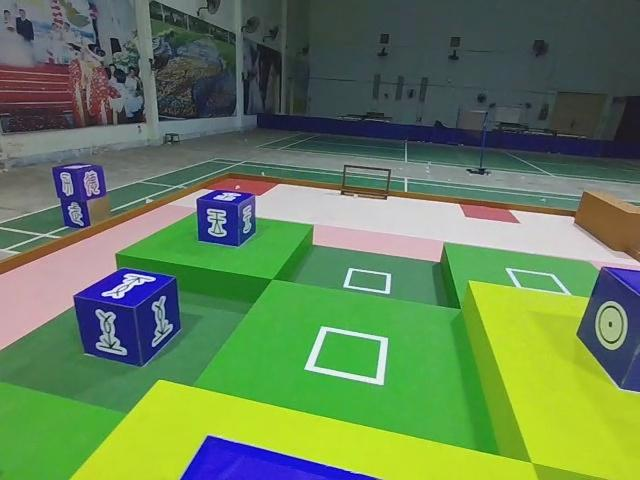R2 Fake Blue: (50, 161, 107, 201)
R2 Real Blue: (74, 270, 184, 369), (577, 267, 640, 402), (194, 190, 256, 250)
